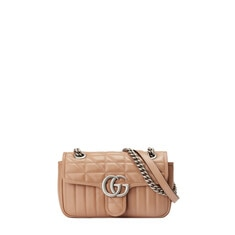Gucci: (57, 147, 178, 223), (95, 167, 135, 199)
